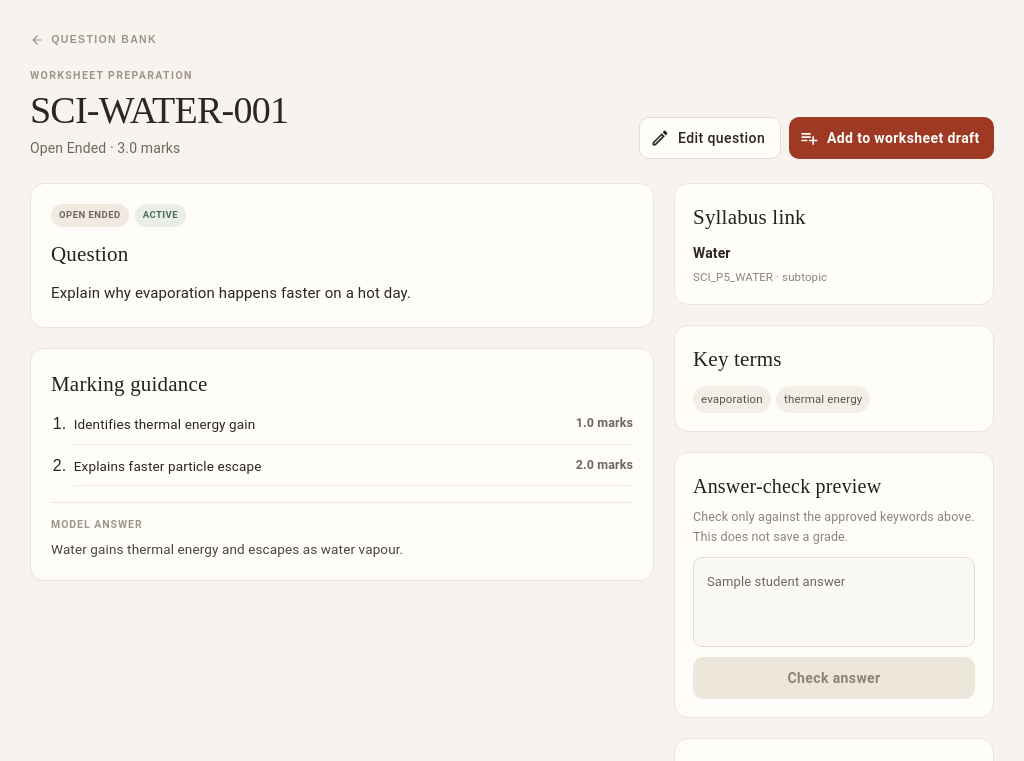
QuestionDetail › runs a non-persistent tutor answer-check preview
Step 1. Type "It gains thermal energy and particles escape." into the text box labelled "Sample student answer" → (834, 602), box left=707, top=573, right=961, bottom=630
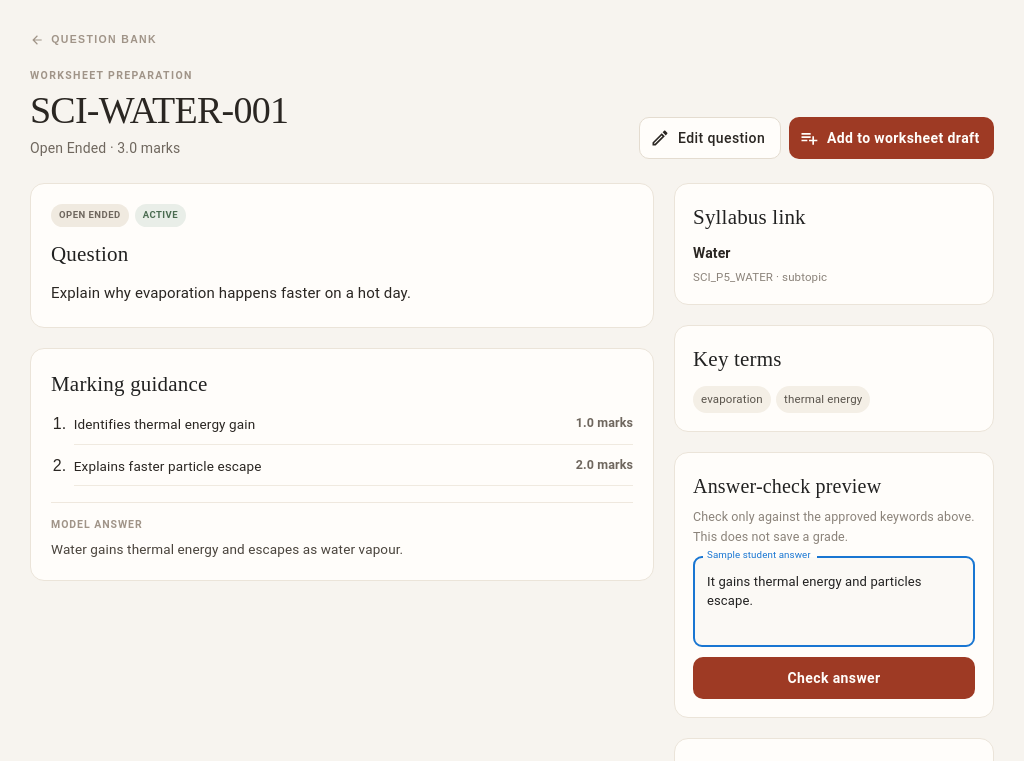
Step 2. Click the button "Check answer" → (834, 678), box left=693, top=657, right=975, bottom=699
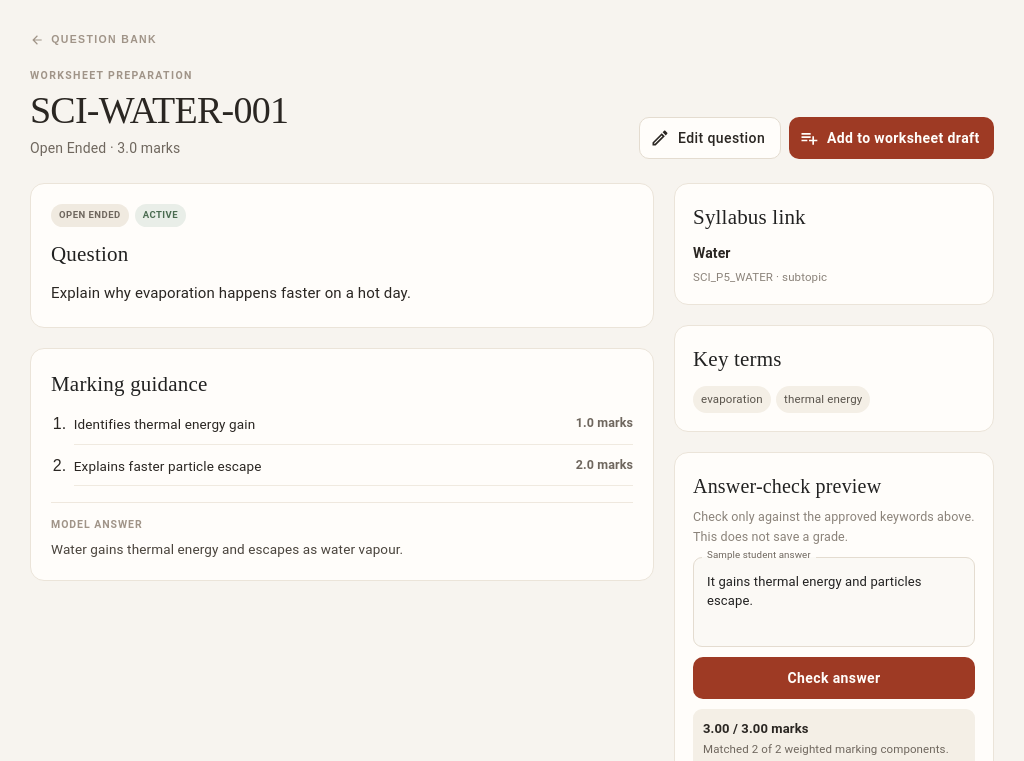
Check: the text "This does not save a grade." is shown, box left=693, top=509, right=975, bottom=544
Check: the text "3.00 / 3.00 marks" is shown, box left=703, top=721, right=809, bottom=736
